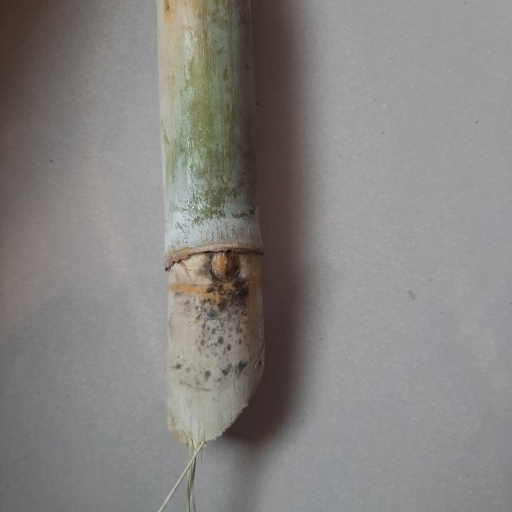Bud: (208, 251, 241, 283)
